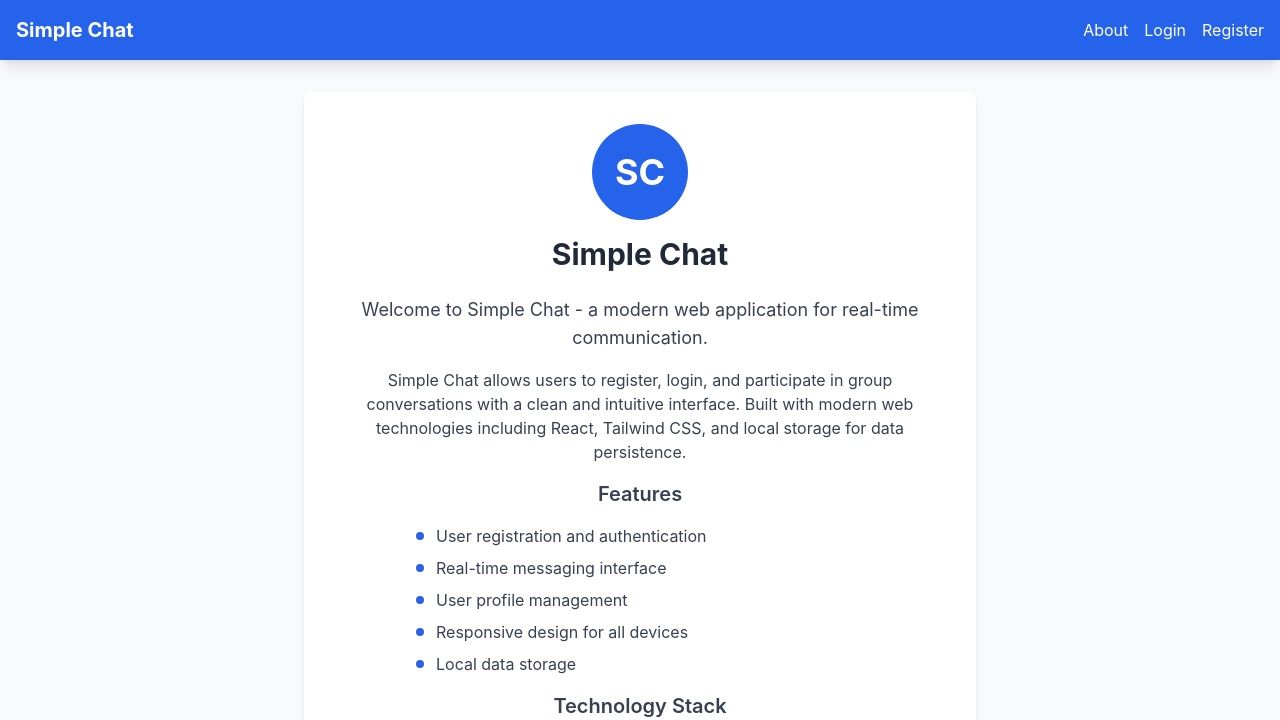
it: Navigation › Unauthenticated User › should navigate to register page
What coordinates should you click on to do the following:
click the link "Register"
I would click on:
 (1233, 30)
Its box is [1202,18,1264,42].
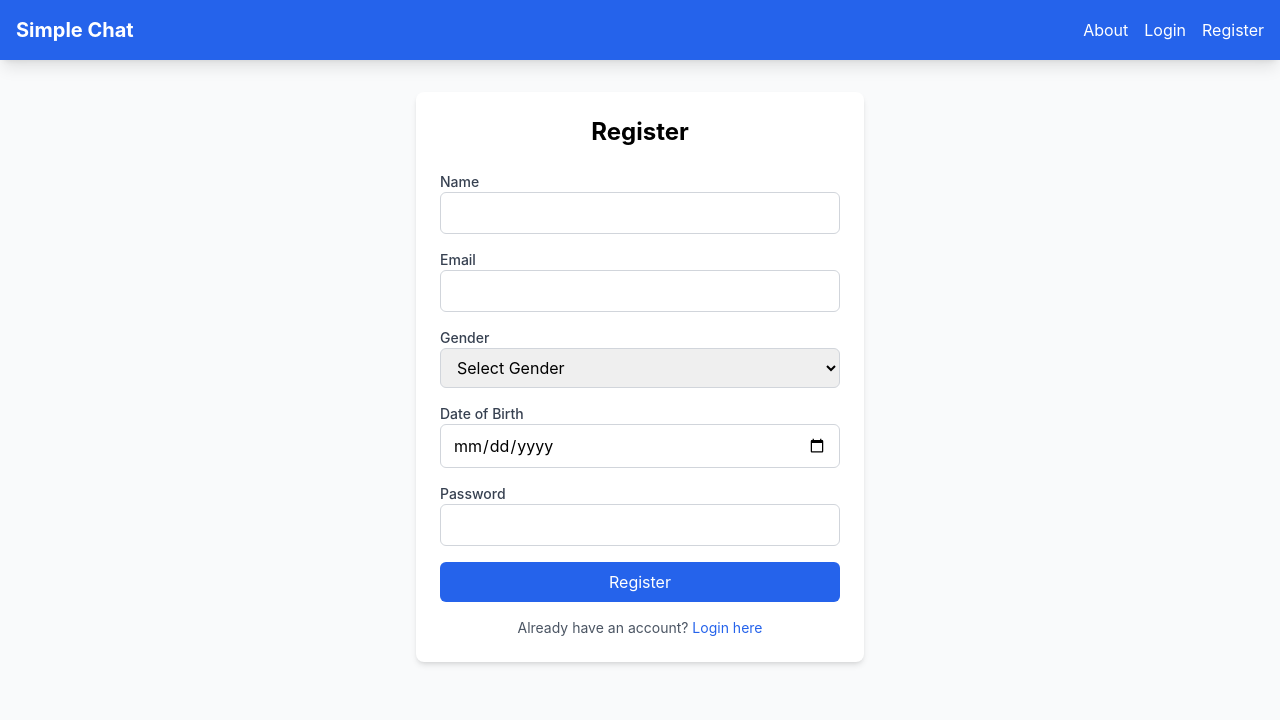
expect the heading "Register" is shown: met, box [591,117,689,146]
